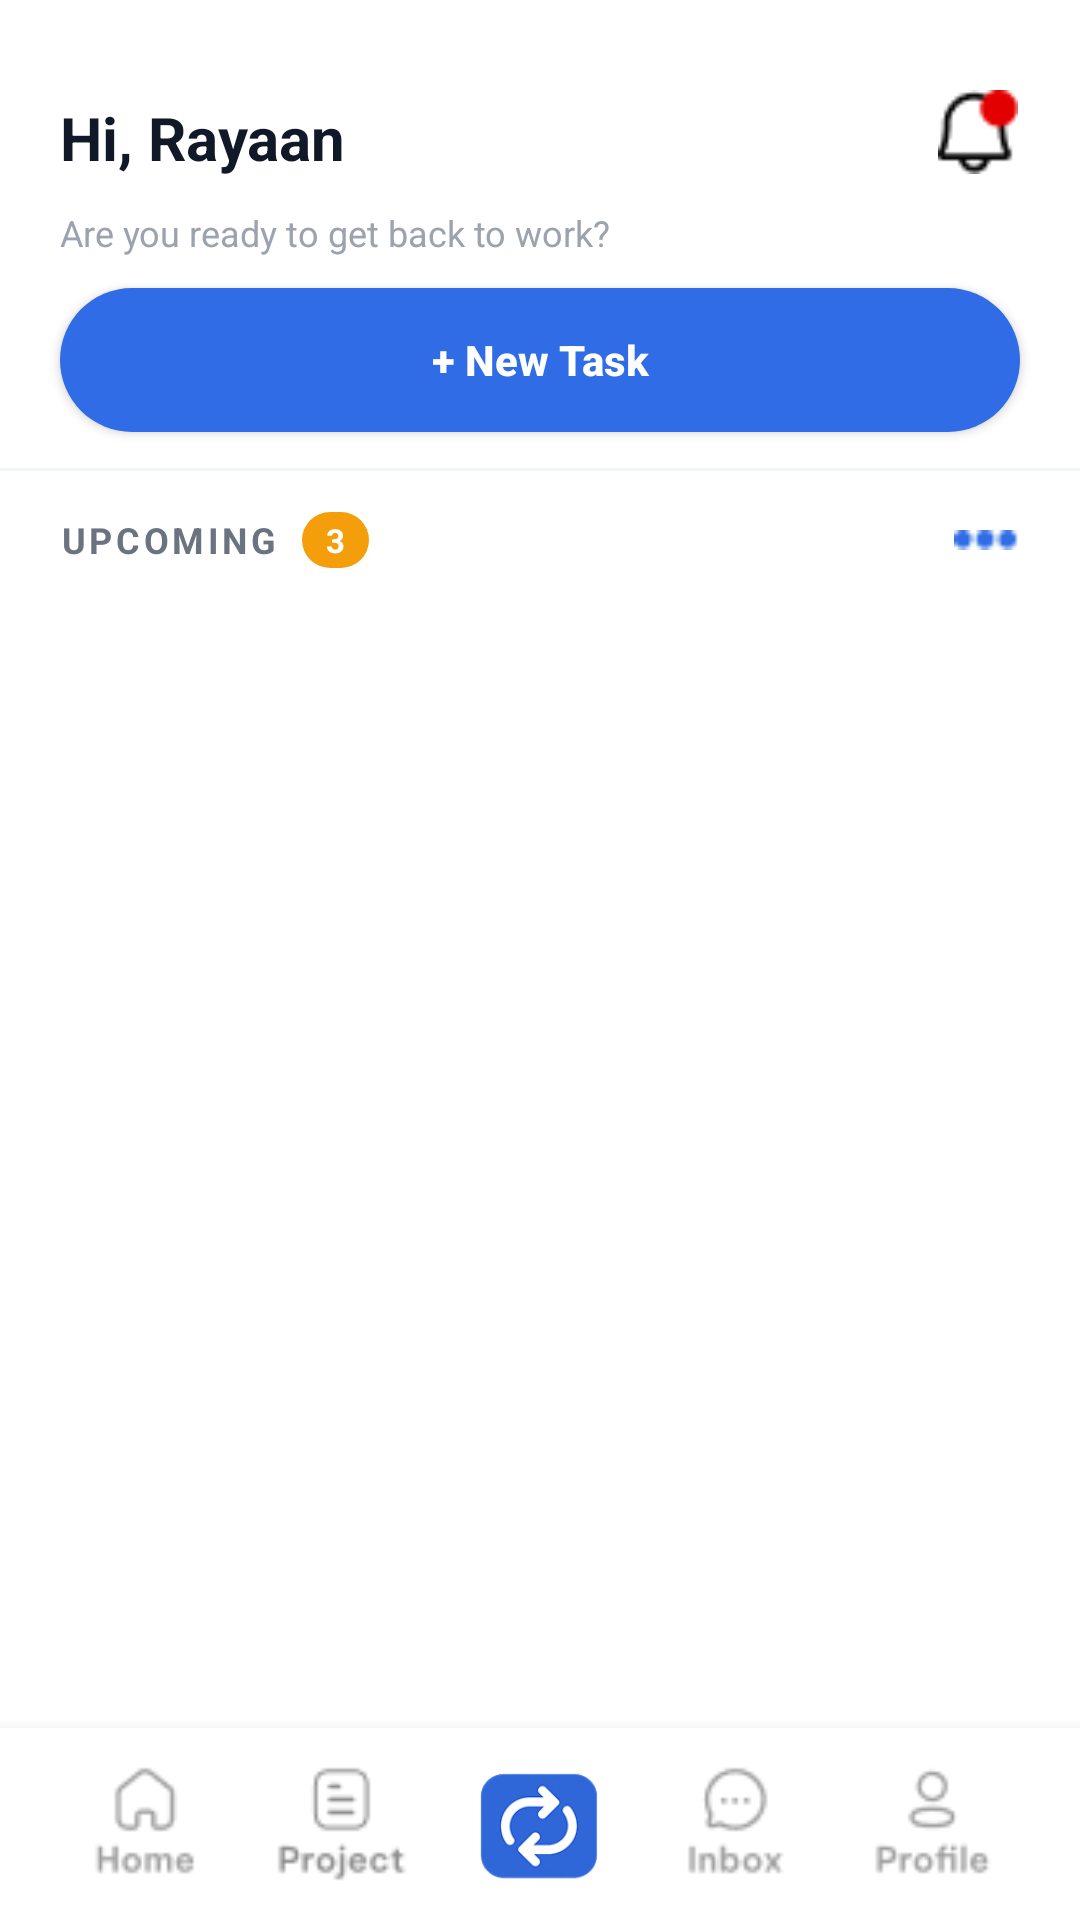

Locate icon controls on the screen. Image size 1080 x 1920, boxes as (x1, y1, x2, y2).
bell: (938, 90, 1018, 174)
more: (954, 530, 1018, 550)
